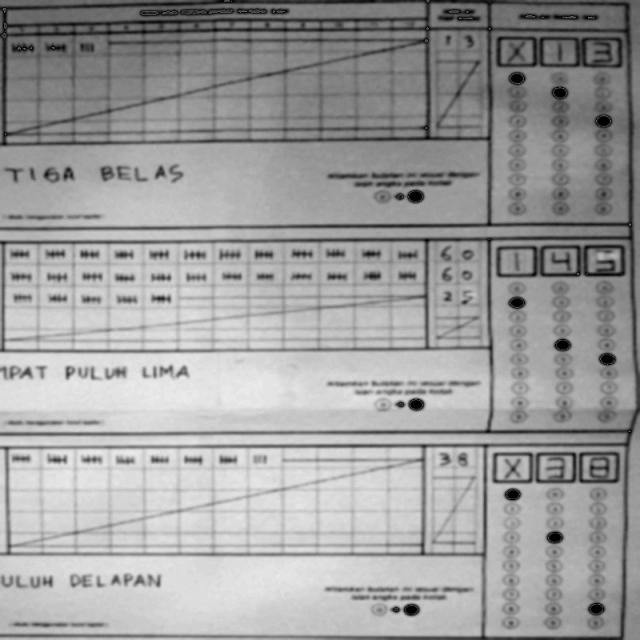Suara: (491, 26, 628, 70), (492, 239, 629, 279), (492, 444, 622, 484)
